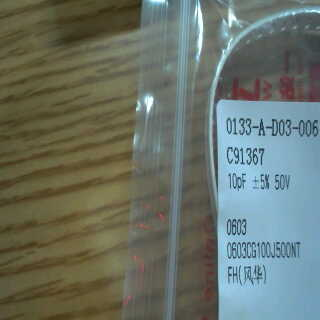10pF: (226, 170, 248, 192)
